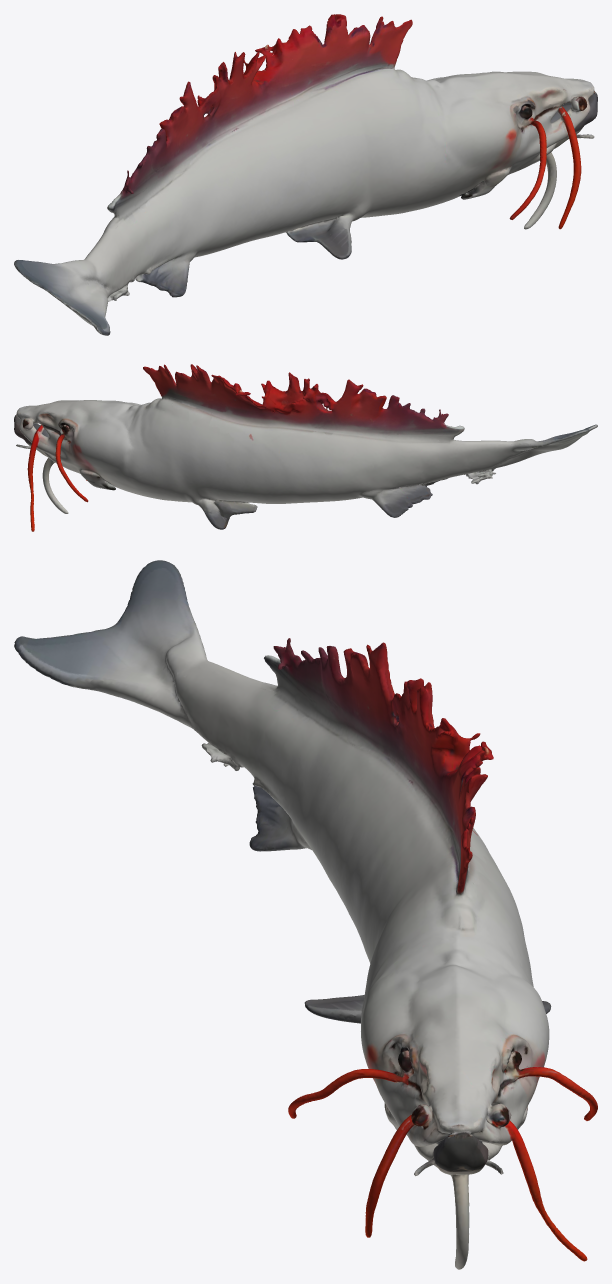
File: real_oarfish_b.glb
3 renders of one model, top to bottom at view 1: azimuth 30°, elevation 25°; view 2: azimuth 150°, elevation 25°; view 3: azimuth 270°, elevation 25°, orthographic. The views are drawn at different scales.
Visible parts, largest first — view 1: tripo_node_89edc3cd-c8fb-4278-b6a3-8900409d9aea; view 2: tripo_node_89edc3cd-c8fb-4278-b6a3-8900409d9aea; view 3: tripo_node_89edc3cd-c8fb-4278-b6a3-8900409d9aea.
Part boxes in pixels (x1=…): tripo_node_89edc3cd-c8fb-4278-b6a3-8900409d9aea: x1=14, y1=14, x2=597, y2=335; tripo_node_89edc3cd-c8fb-4278-b6a3-8900409d9aea: x1=14, y1=364, x2=597, y2=531; tripo_node_89edc3cd-c8fb-4278-b6a3-8900409d9aea: x1=14, y1=560, x2=597, y2=1269.
Size of the model in its own units: 1 by 0.3608 by 0.5109.
Materials: 1 (1 with a texture image).
